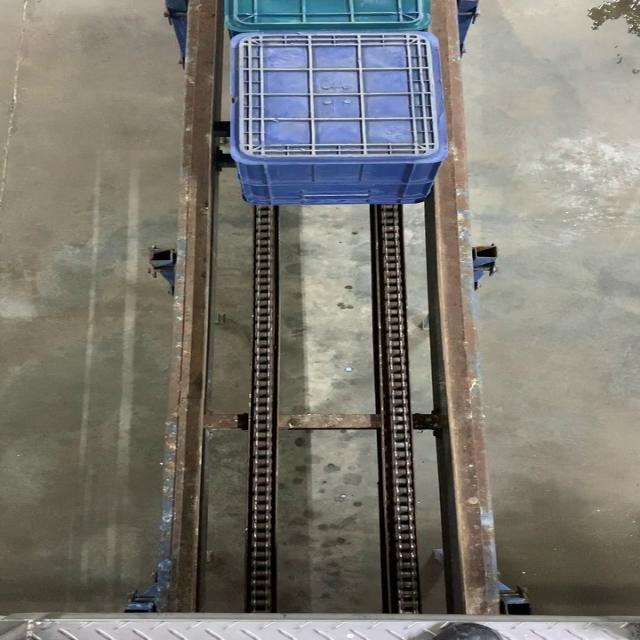Box: (234, 34, 444, 158)
